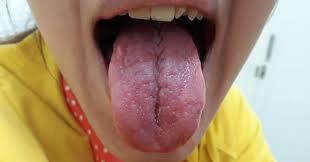baitaishe: (108, 32, 206, 154)
liewenshe: (150, 57, 164, 129)
